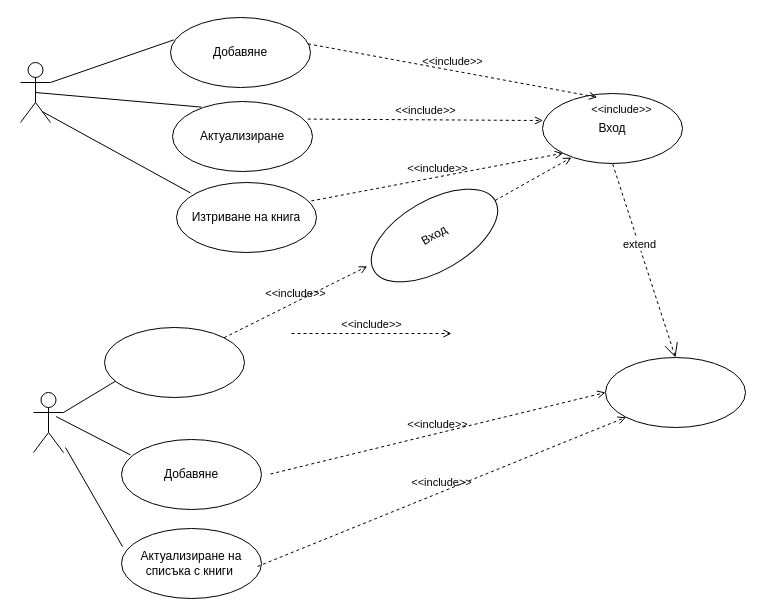
The diagram is 763 pixels wide and 616 high, and some of its shapes have lost their labels. The shapes that lost their labels are listed below. From the top down, each one's centre as x and y in pixels, then its label:
At point 35,92: "Админ".
At point 174,362: "Регистрация".
At point 675,392: "Резервация на книга".
At point 48,422: "Клиент".
